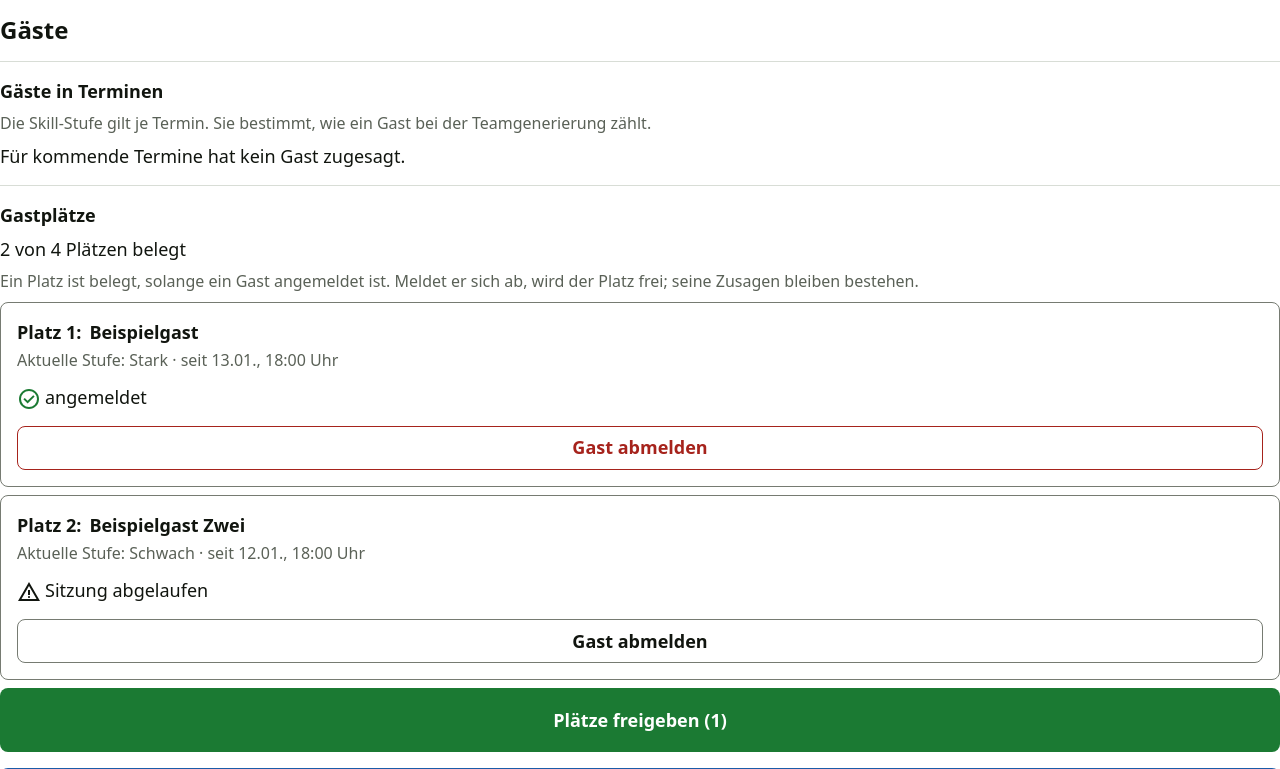
it: AdminGaeste – Freigeben › bei lebender Sitzung fragt ein Dialog und nennt, dass der Gast abgemeldet wird
Click the button with test id "admin-gast-freigeben-1" at x=640, y=448, box [17,426,1263,470]
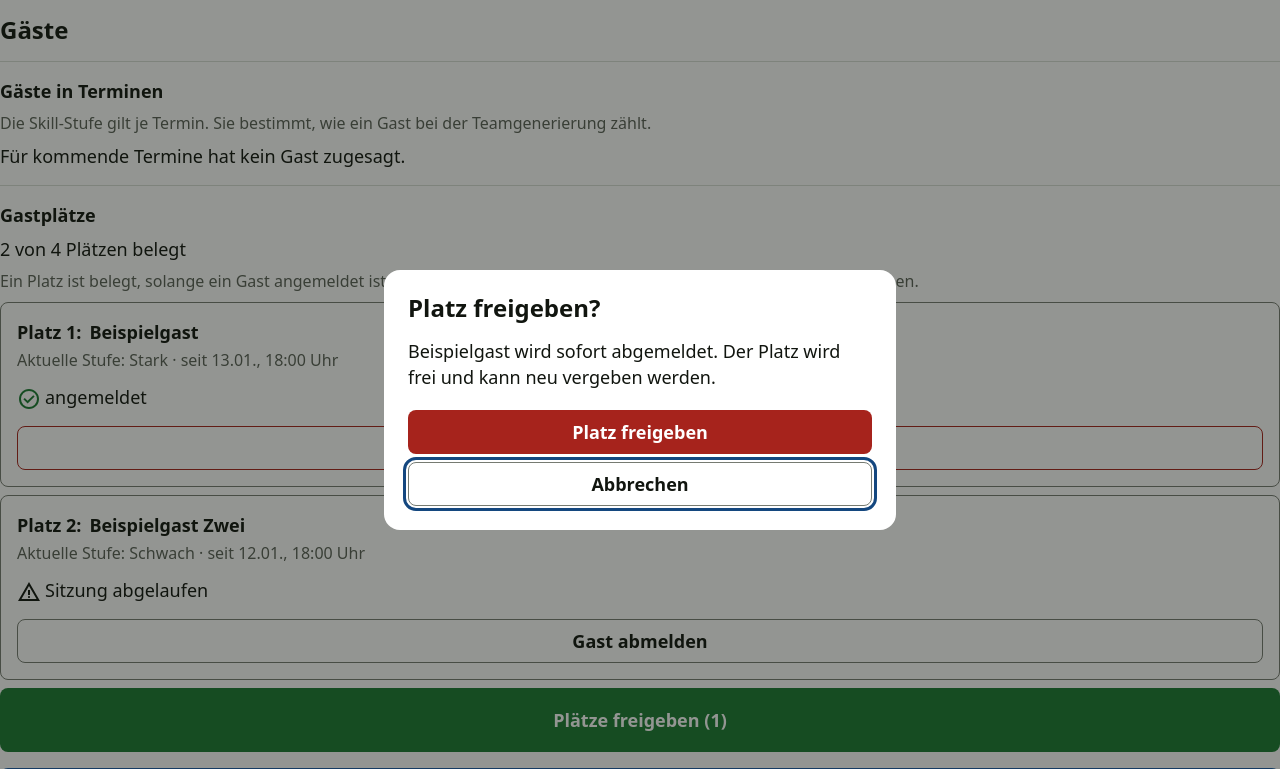
Now the dialog with test id "admin-gaeste-freigeben-dialog" shows "Beispielgast wird sofort abgemeldet", box [384,270,896,530]
